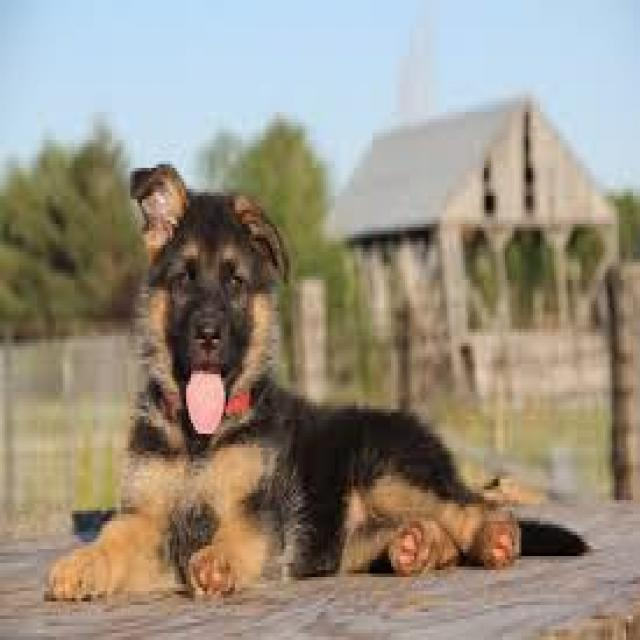Dog: (44, 158, 597, 612)
